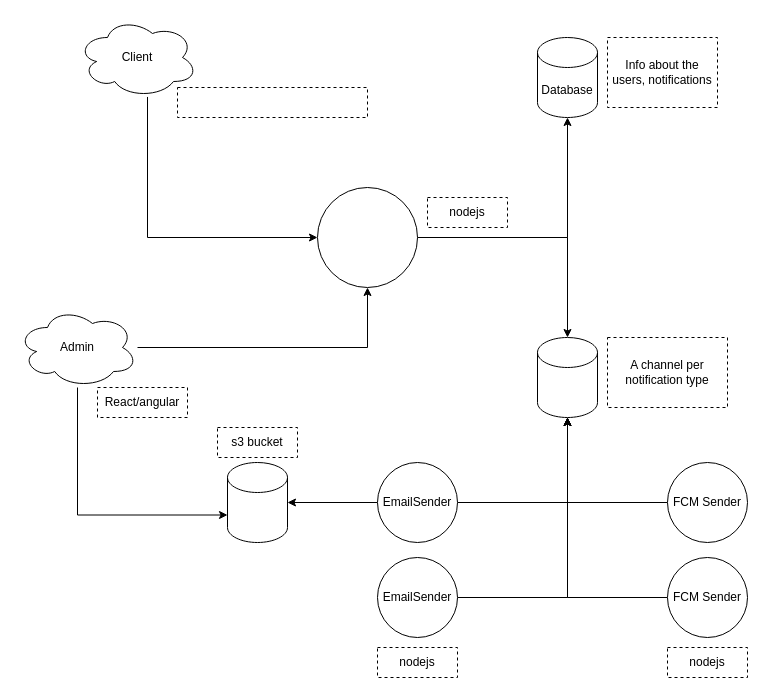
This 765x695 diagram has some shape labels left out. The centre of each missing label's shape, as x and y in pixels:
Api Notifications: point 367,237
Email templates: point 257,502
Queue: point 567,377
React/angular/mobile/whatever: point 272,102
